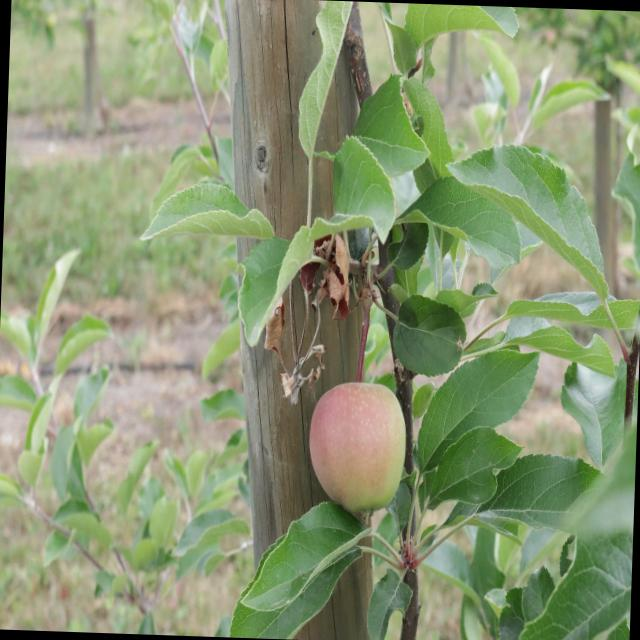-FireBlight-: (297, 248, 357, 334)
